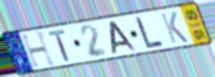2: (79, 23, 110, 59)
A: (109, 21, 139, 55)
H: (20, 29, 58, 70)
K: (158, 10, 190, 45)
L: (134, 16, 166, 49)
T: (46, 28, 72, 63)
